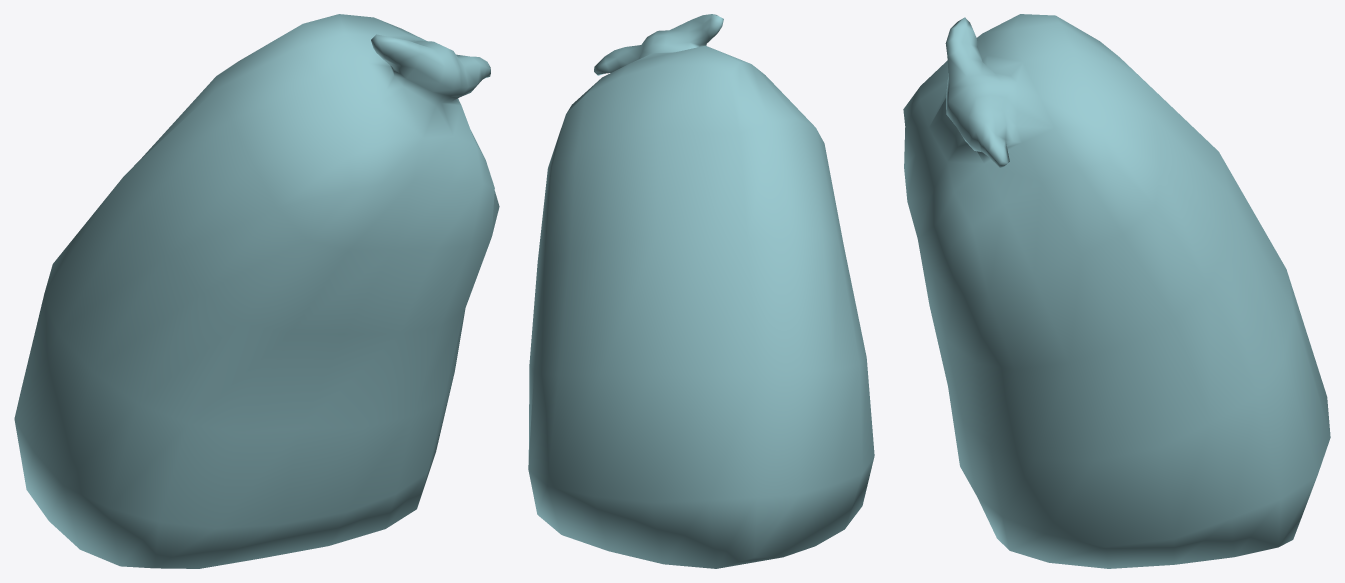
File: SackD.fbx
3 renders of one model, left to right at view 1: azimuth 30°, elevation 25°; view 2: azimuth 150°, elevation 25°; view 3: azimuth 270°, elevation 25°, orthographic. The views are drawn at different scales.
Visible parts, largest first — view 1: SackD; view 2: SackD; view 3: SackD.
Part boxes in pixels (box(x1,y1,x2,y2)): SackD: box(14, 14, 499, 568); SackD: box(528, 14, 874, 568); SackD: box(903, 14, 1330, 568).
Bounding box in the file's own units: 45.02 × 58.96 × 43.69.
